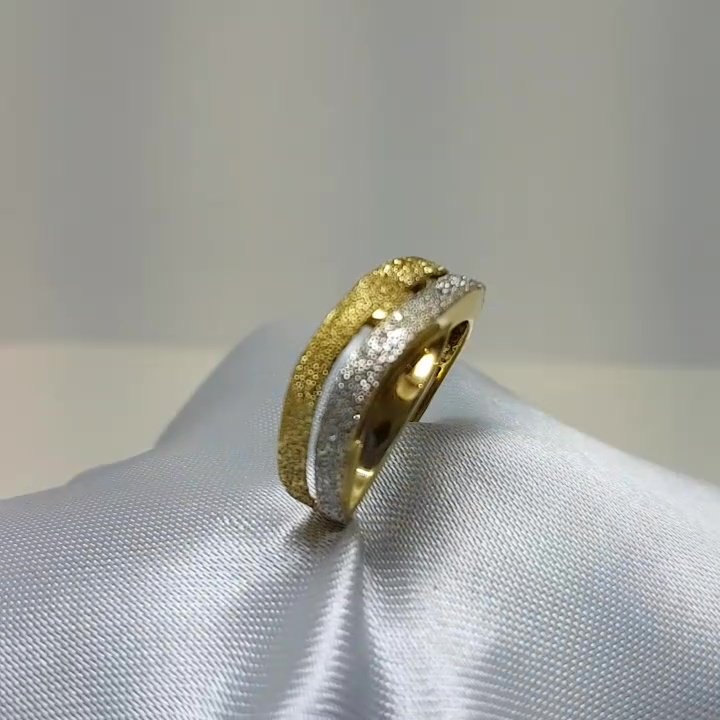Ring 5: (237, 248, 497, 555)
